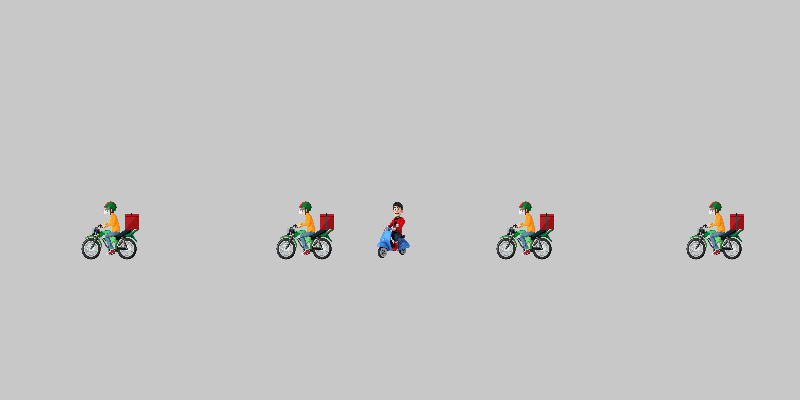helmet: (80, 200, 140, 260), (275, 200, 335, 260), (495, 200, 555, 260), (685, 200, 745, 260)
no_helmet: (365, 200, 425, 260)
